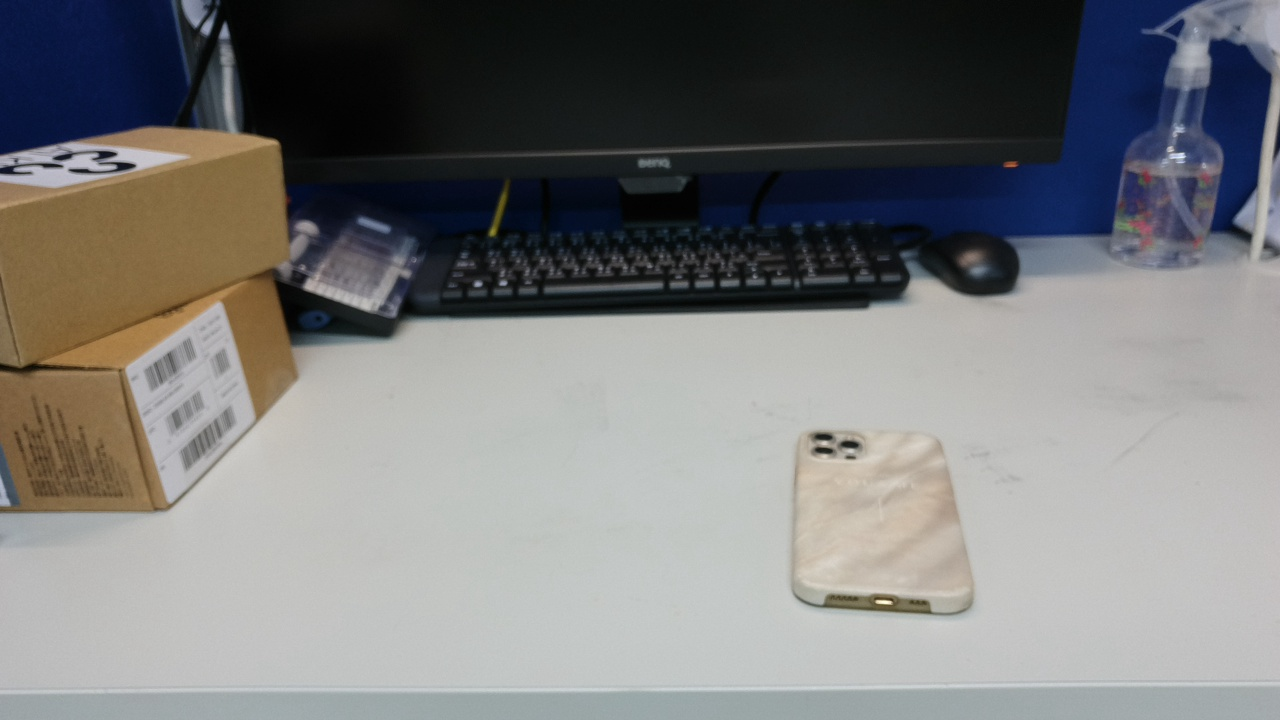long: (292, 483, 509, 695)
